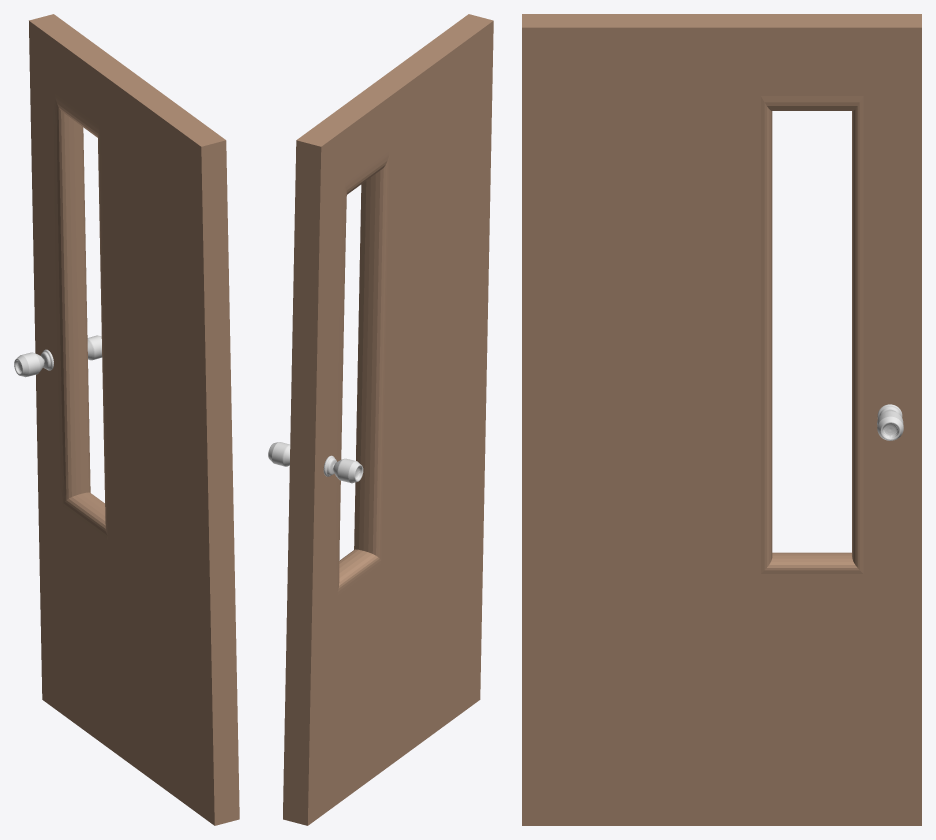
File: OfficeDoor.fbx
The picture shows the model from 3 angles, left to right: view 1: azimuth 30°, elevation 25°; view 2: azimuth 150°, elevation 25°; view 3: azimuth 270°, elevation 25°; orthographic projection. The views are drawn at different scales.
Visible parts, largest first — view 1: Door1, Door2; view 2: Door1, Door2, Door2.001; view 3: Door1, Door2.001.
Part boxes in pixels (x1,y1,x2,y2): Door1: (29,14,239,825); Door2: (14,349,53,377); Door1: (283,14,493,825); Door2: (323,455,363,483); Door2.001: (268,442,290,466); Door1: (522,14,921,825); Door2.001: (877,404,903,440).
Size of the model in its own units: 110 by 827 by 378.
